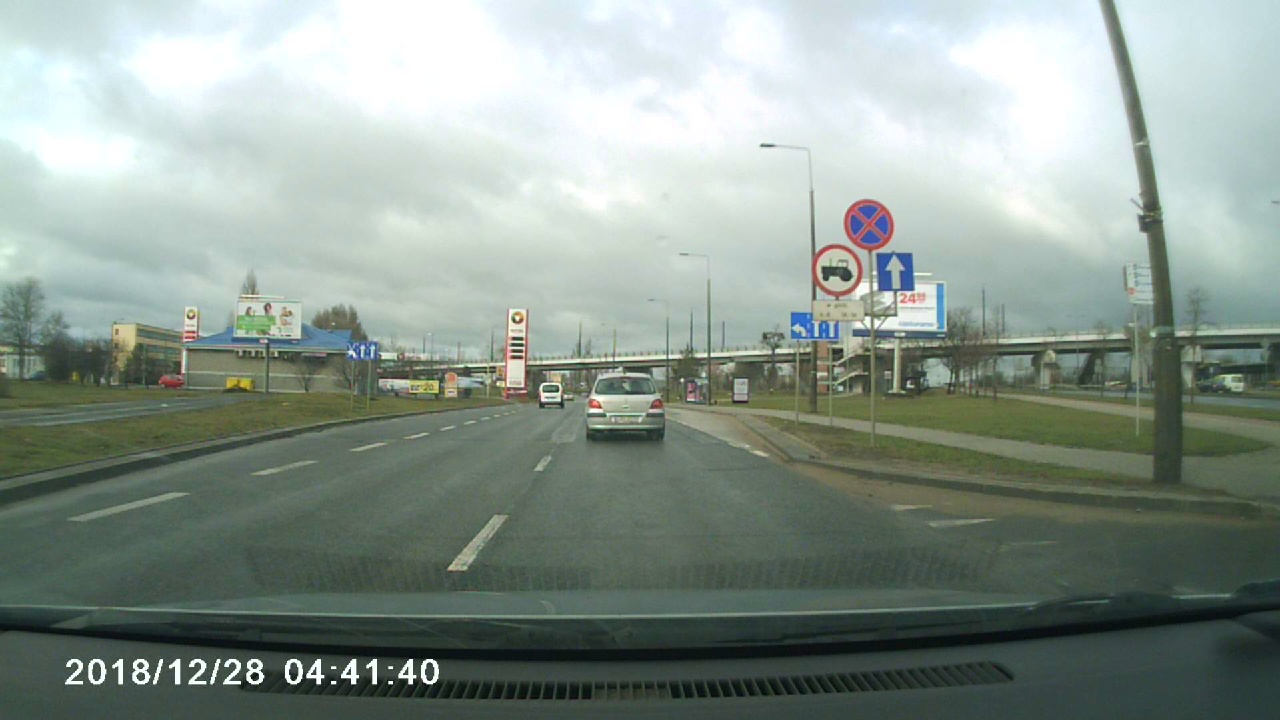B35: (846, 198, 897, 250)
D3: (872, 250, 918, 292)
